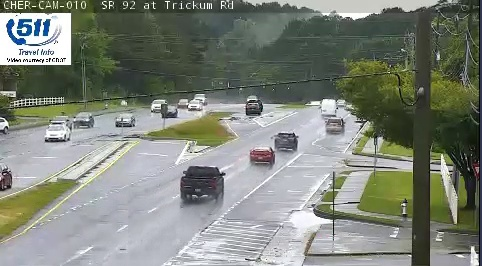car: (180, 167, 224, 197), (274, 132, 297, 151), (250, 148, 275, 163), (326, 117, 344, 133)
van: (320, 100, 336, 119)
